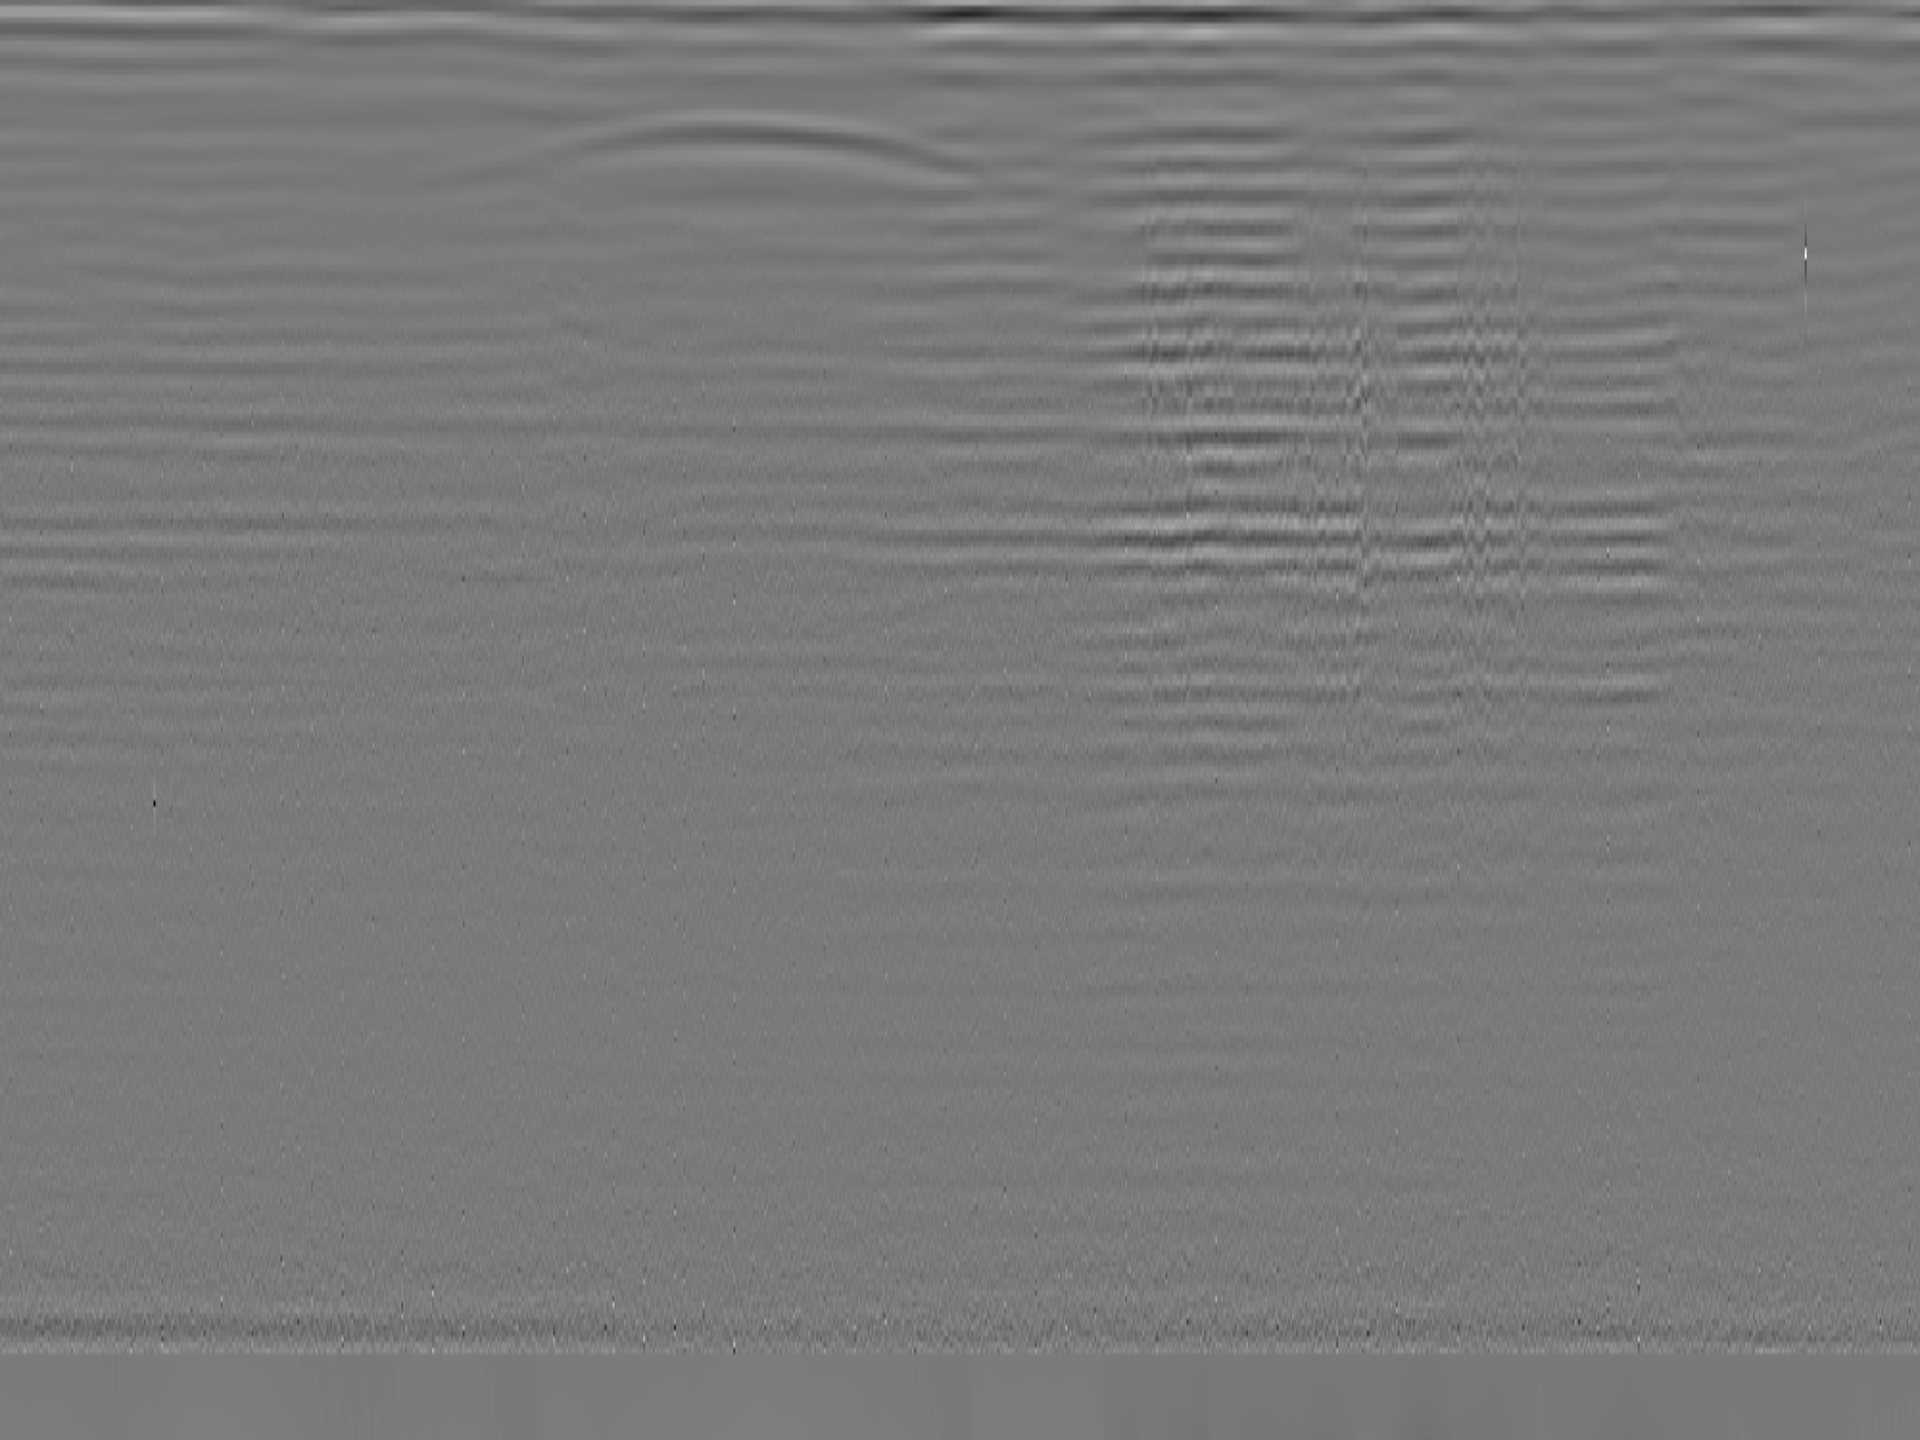Tunnel: (434, 112, 1014, 188)
